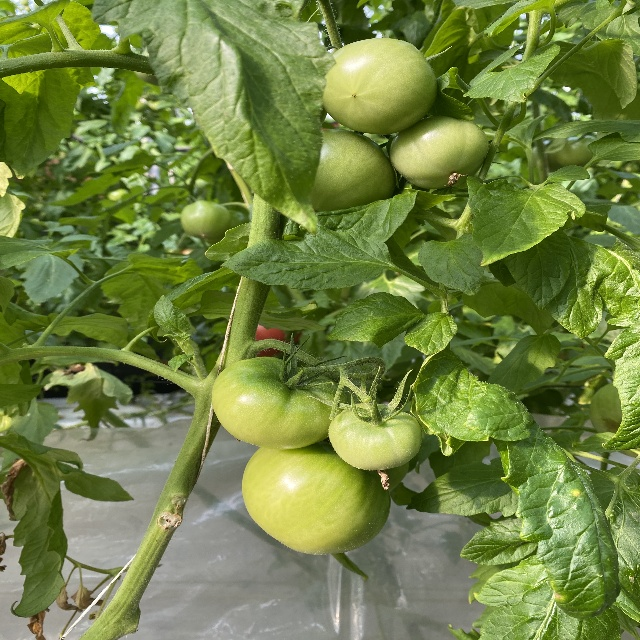b_green: (241, 441, 391, 556), (212, 356, 350, 450), (321, 38, 437, 134), (388, 116, 489, 189), (310, 129, 398, 212), (328, 403, 421, 470), (180, 200, 230, 240)
